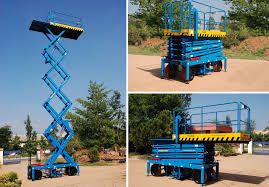Scissor Lift: (26, 7, 85, 182), (146, 101, 252, 187), (160, 1, 227, 83)
